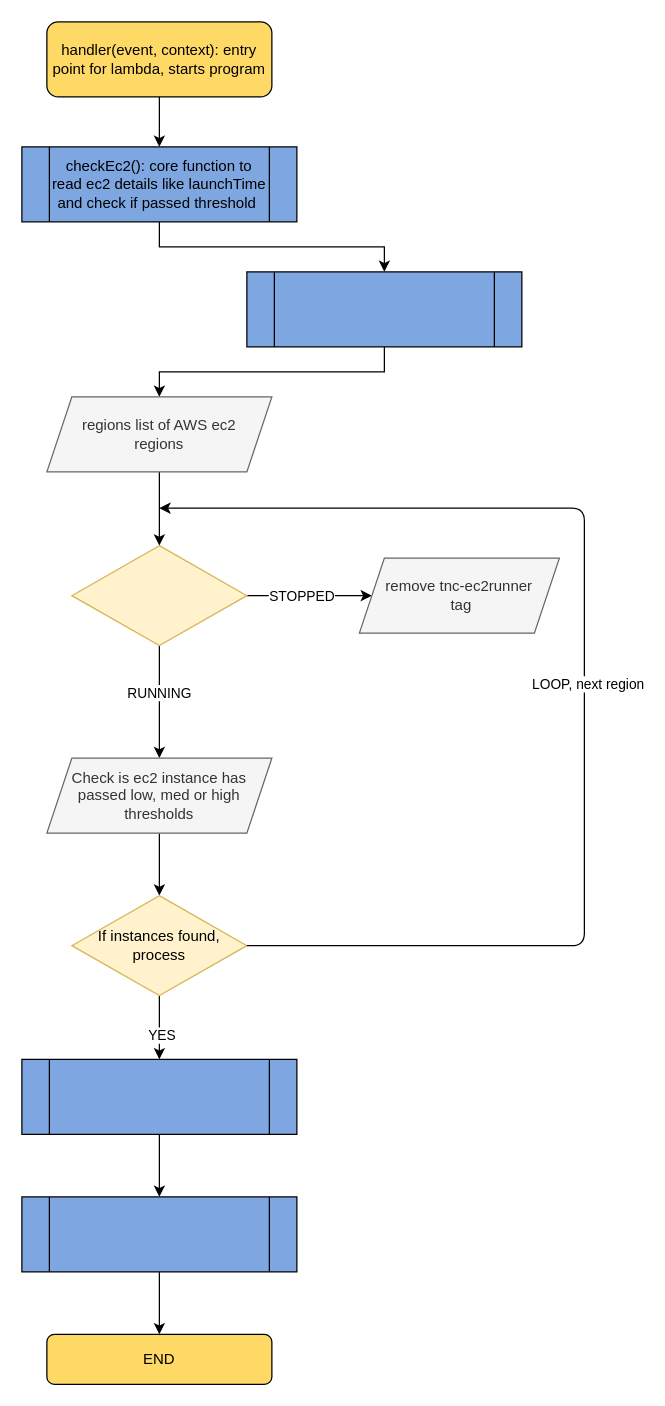
This 665x1406 diagram has some shape labels left out. The centre of each missing label's shape, as x and y in pixels:
findRegions(): Get all of the ec2 regions to loop through: the point at 384,309
formatMessage(meta, status): make the message to sns look nicer: the point at 159,1096
publishSns(sub, msg): send to sns topic: the point at 159,1234
running or stopped ec2?: the point at 159,595
